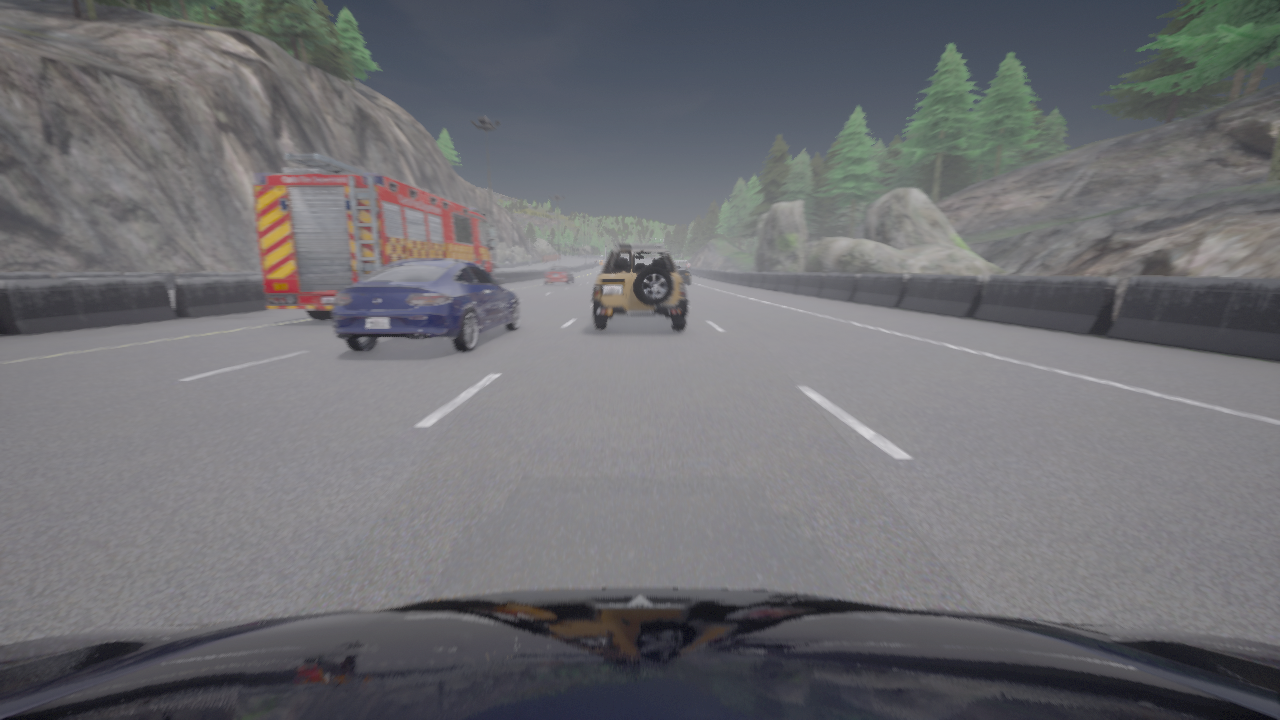cyclist: (0, 588, 1279, 719), (252, 153, 496, 320), (332, 259, 520, 352), (592, 245, 687, 330), (544, 266, 574, 285), (677, 268, 690, 284)
